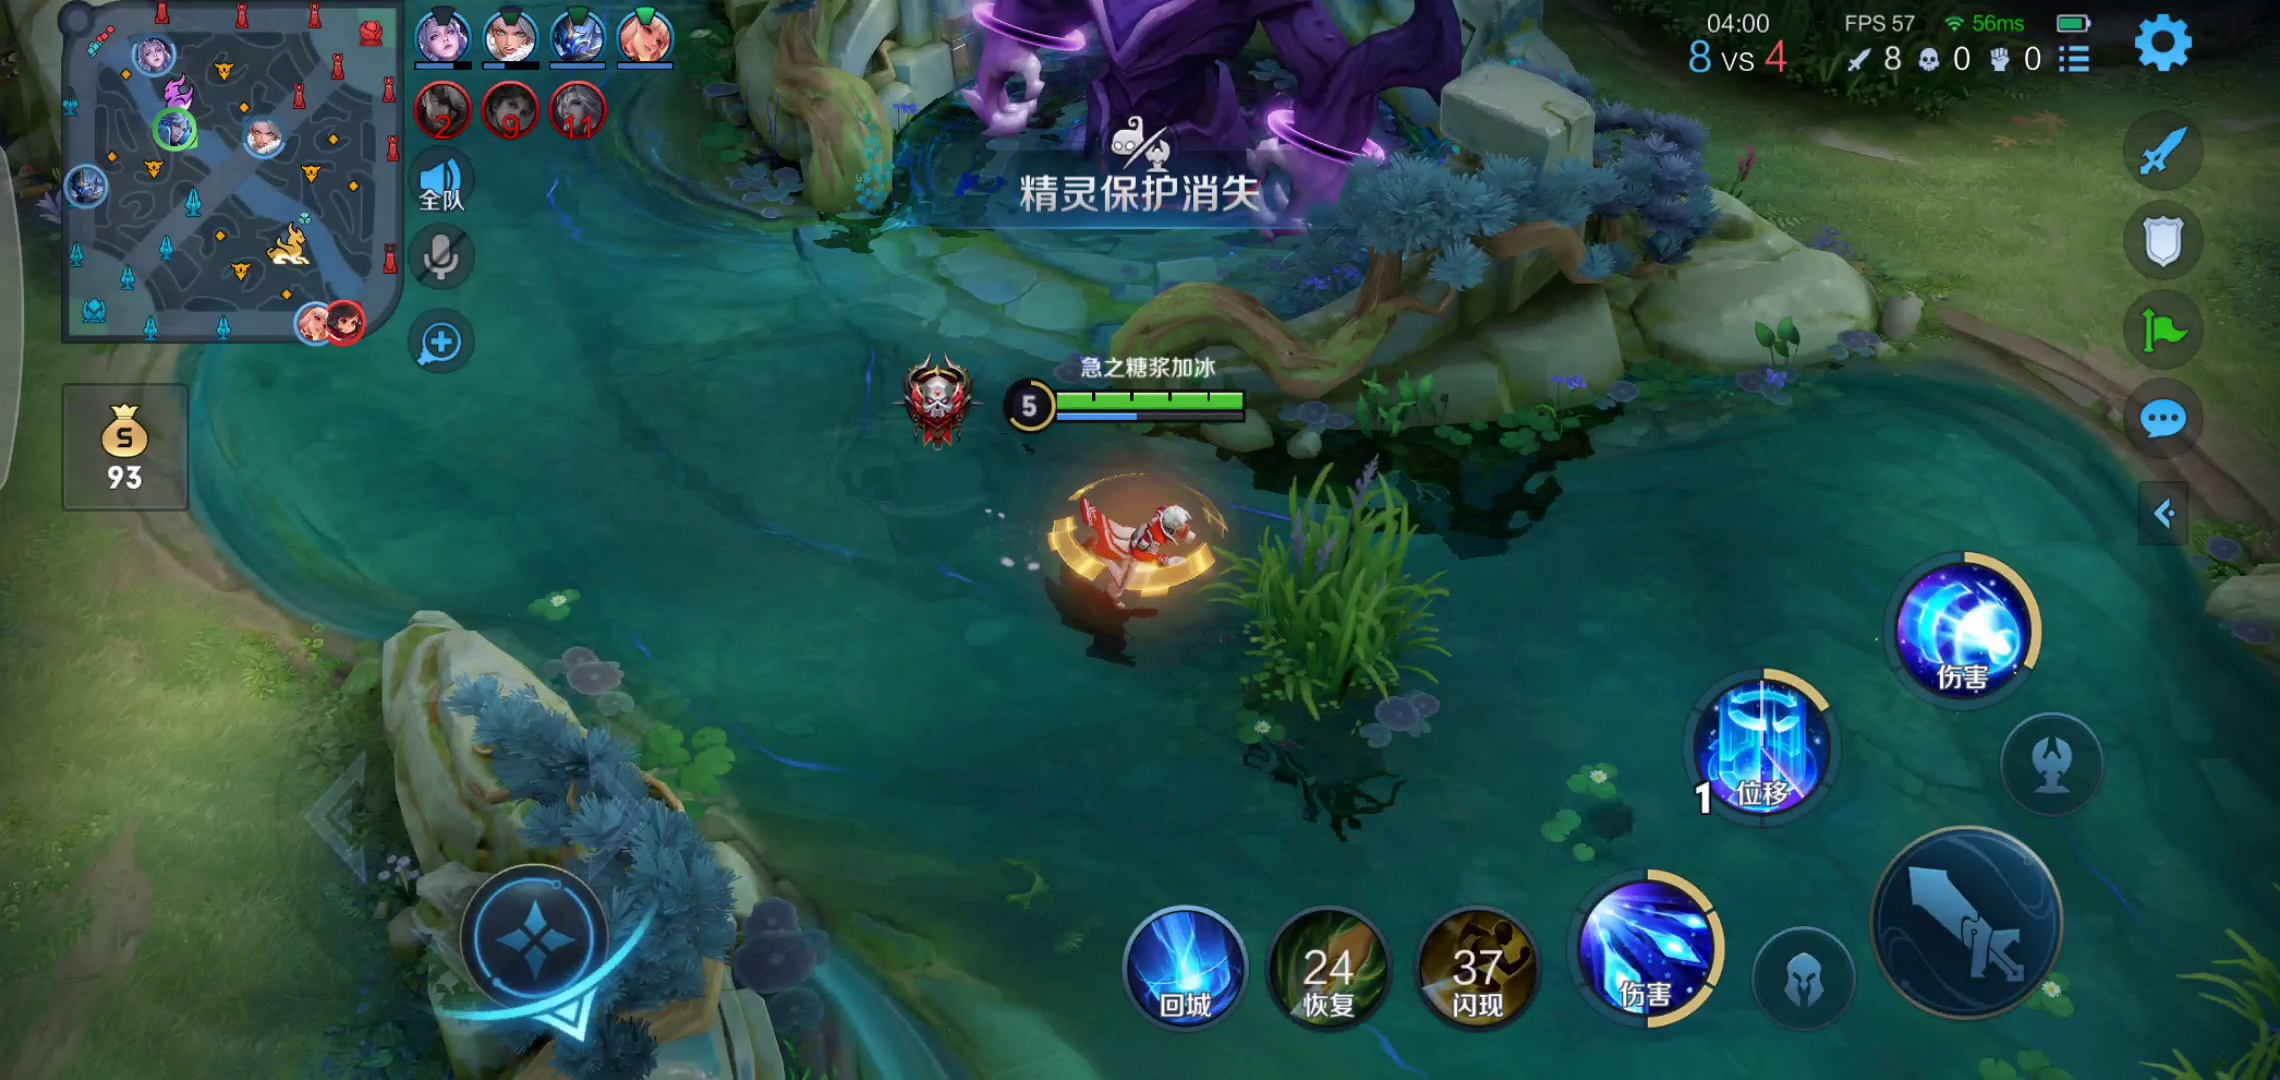dragon: (932, 4, 1456, 243)
grass: (1236, 509, 1437, 720), (1677, 1, 1976, 132), (2161, 903, 2280, 1077)
hero: (1040, 485, 1210, 632)
